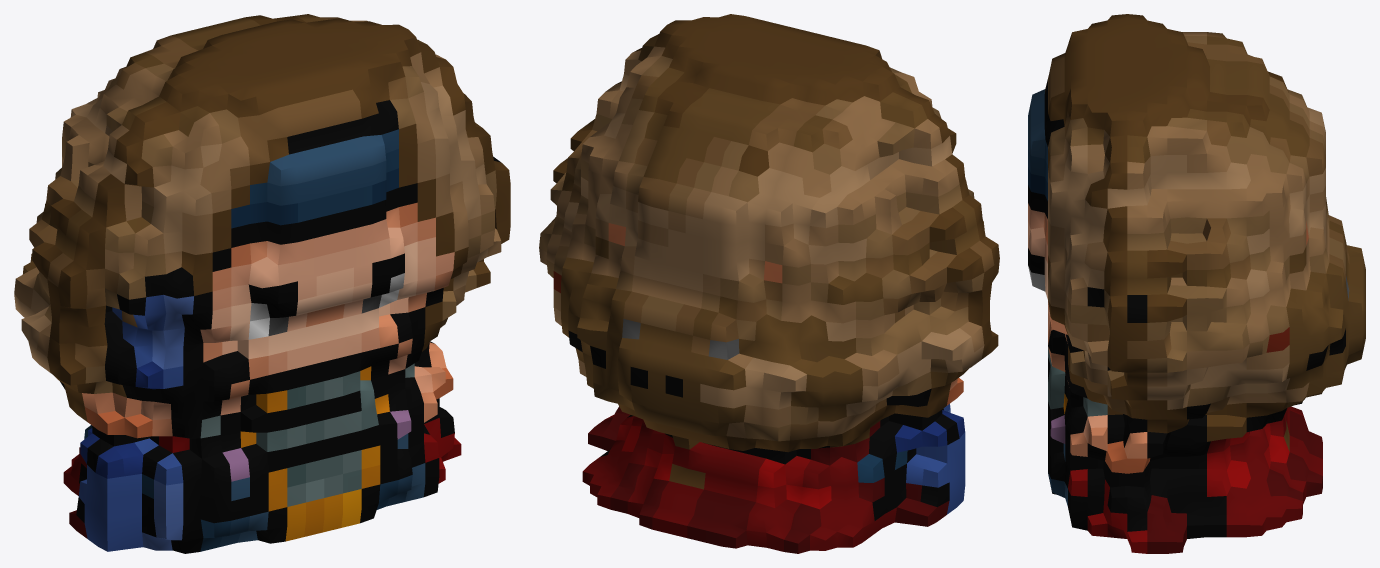
Rendered from Icon_026_02.obj.
3 renders of one model, left to right at view 1: azimuth 30°, elevation 25°; view 2: azimuth 150°, elevation 25°; view 3: azimuth 270°, elevation 25°, orthographic. The views are drawn at different scales.
Size of the model in its own units: 2.4 by 2.3 by 1.7.
